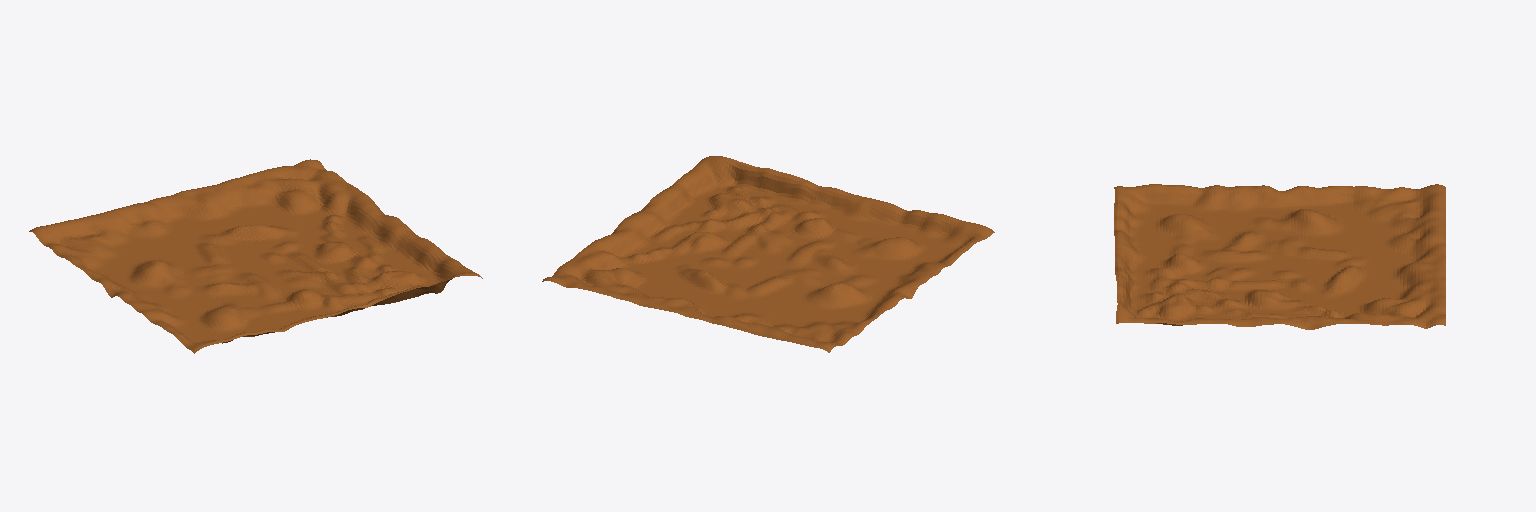
File: level_xlarge.obj
3 renders of one model, left to right at view 1: azimuth 30°, elevation 25°; view 2: azimuth 150°, elevation 25°; view 3: azimuth 270°, elevation 25°, orthographic.
Visible parts, largest first — view 1: Plane; view 2: Plane; view 3: Plane.
Part boxes in pixels (x1,y1,x2,y2): Plane: (29,159,482,353); Plane: (542,156,994,352); Plane: (1114,184,1445,329).
Bounding box in the file's own units: 201 × 12.27 × 200.